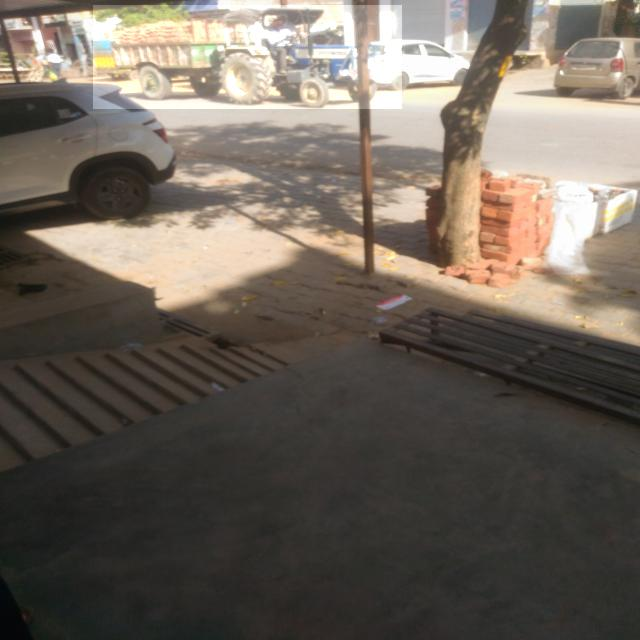Tractot: (93, 5, 402, 109)
